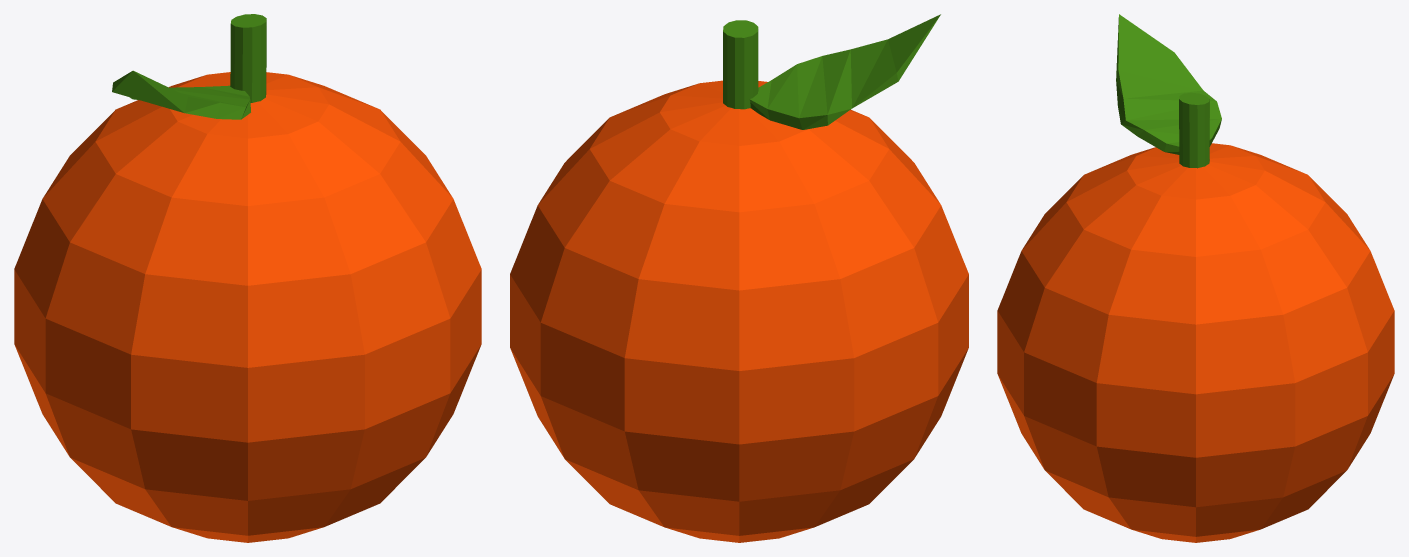
Rendered from Orange.obj.
The picture shows the model from 3 angles, left to right: view 1: azimuth 30°, elevation 25°; view 2: azimuth 150°, elevation 25°; view 3: azimuth 270°, elevation 25°; orthographic projection. The views are drawn at different scales.
Parts seen in each view (by area): view 1: group879198542, group1203776062, group589766384; view 2: group879198542, group1203776062, group589766384; view 3: group879198542, group1203776062, group589766384.
Part boxes in pixels (left/top/right/bottom): group879198542: left=14, top=72, right=481, bottom=542; group1203776062: left=112, top=70, right=250, bottom=119; group589766384: left=230, top=14, right=266, bottom=102; group879198542: left=510, top=80, right=968, bottom=542; group1203776062: left=749, top=14, right=940, bottom=129; group589766384: left=723, top=20, right=758, bottom=109; group879198542: left=997, top=143, right=1394, bottom=542; group1203776062: left=1116, top=14, right=1221, bottom=154; group589766384: left=1179, top=92, right=1209, bottom=168.
Size of the model in its own units: 0.1379 by 0.1703 by 0.1379.
